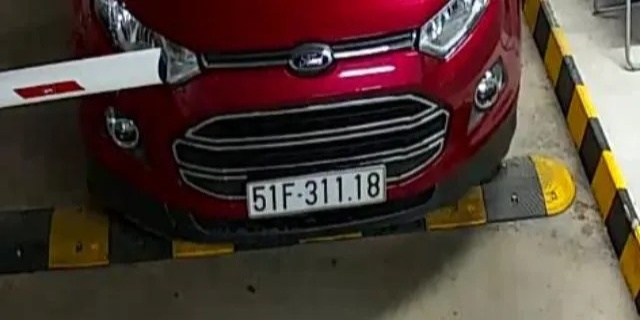bien_so: (247, 172, 387, 205)
